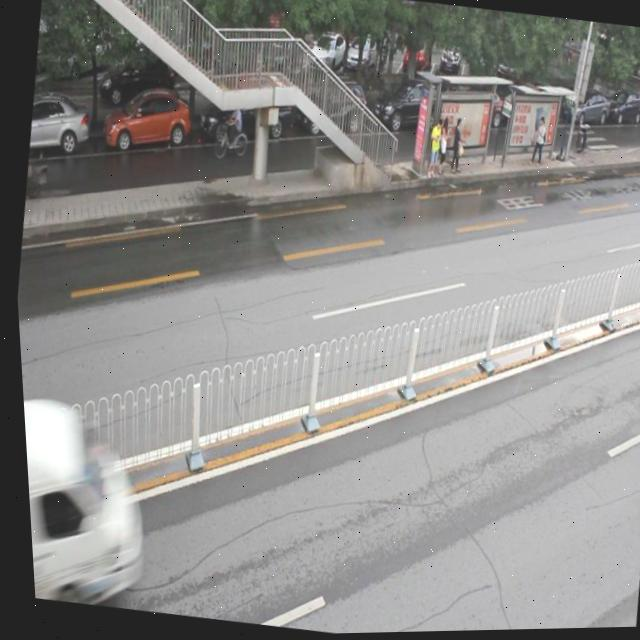car: (97, 82, 192, 161), (192, 78, 290, 154), (366, 74, 448, 143), (290, 75, 367, 142), (25, 89, 91, 162)
truck: (19, 400, 151, 611)
